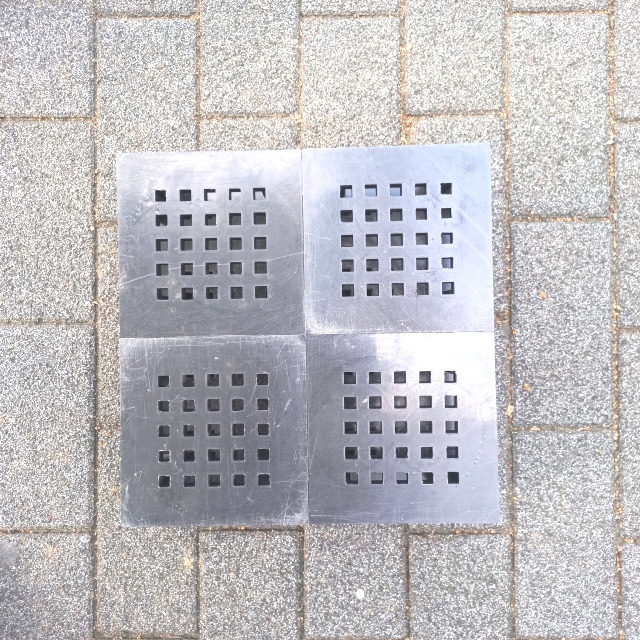pallet: (100, 136, 504, 546)
